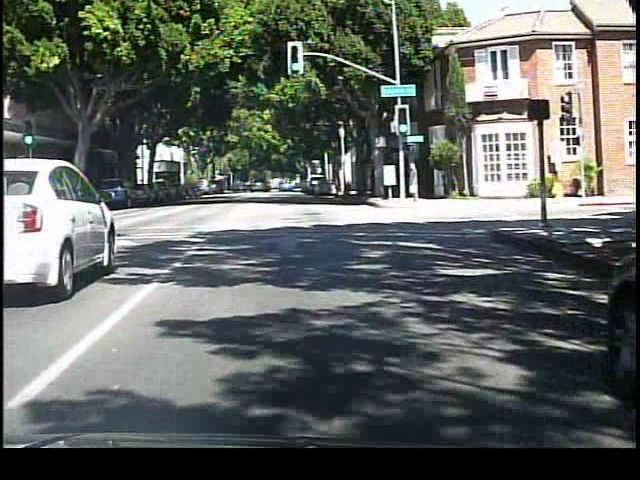person: (407, 158, 427, 209)
